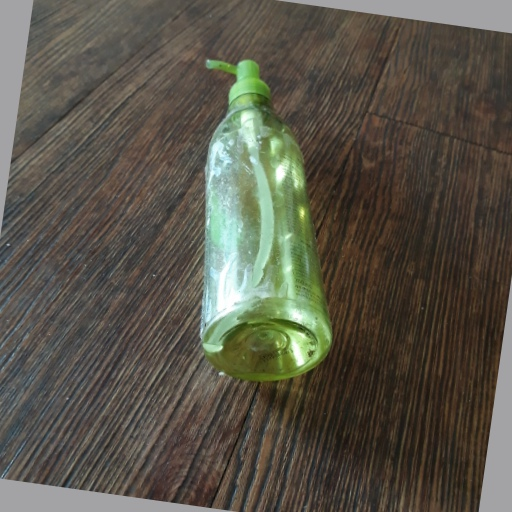Plastic_3: (197, 53, 332, 379)
